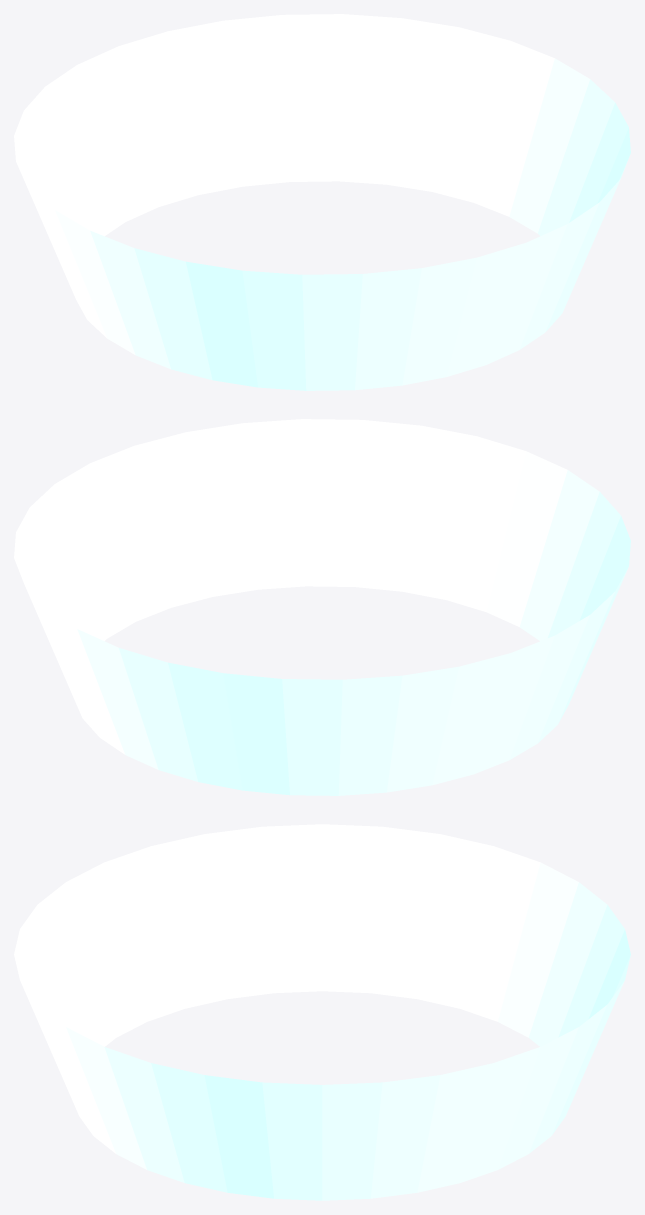
Rendered from platformGlow.glb.
3 views of the same model, one above another, from view 1: azimuth 30°, elevation 25°; view 2: azimuth 150°, elevation 25°; view 3: azimuth 270°, elevation 25° (orthographic).
Parts seen in each view (by area): view 1: projection; view 2: projection; view 3: projection.
Part boxes in pixels (<box>): projection: <box>14,14,630,390</box>; projection: <box>14,419,630,795</box>; projection: <box>14,824,630,1200</box>.
Bounding box in the file's own units: 0.7508 × 0.1899 × 0.7508.
